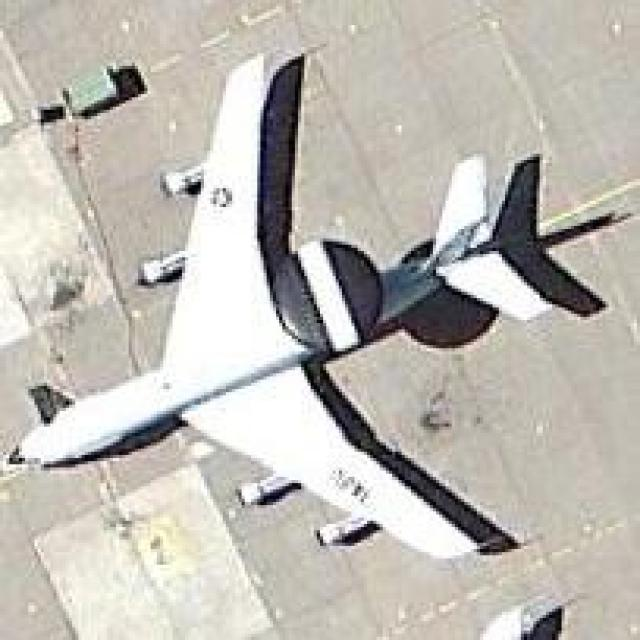E-3_TopDown: (6, 41, 637, 562)
